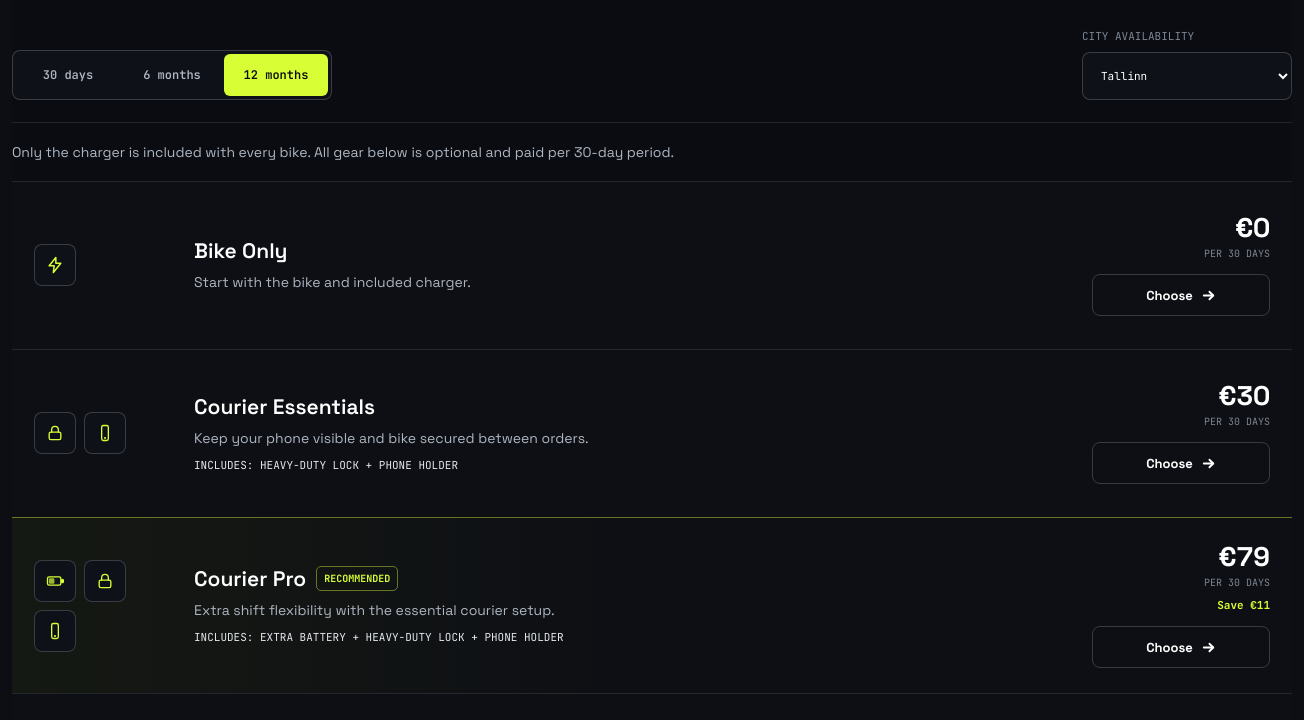
AccessoryPackages › requotes by city and keeps unavailable packages visible
The image size is (1304, 720).
Expected: the heading "Courier Pro" is shown, [194, 566, 306, 592]
Select "Riga" in the dropdown labelled "City availability". click: (1187, 76)
box: [1082, 52, 1292, 100]
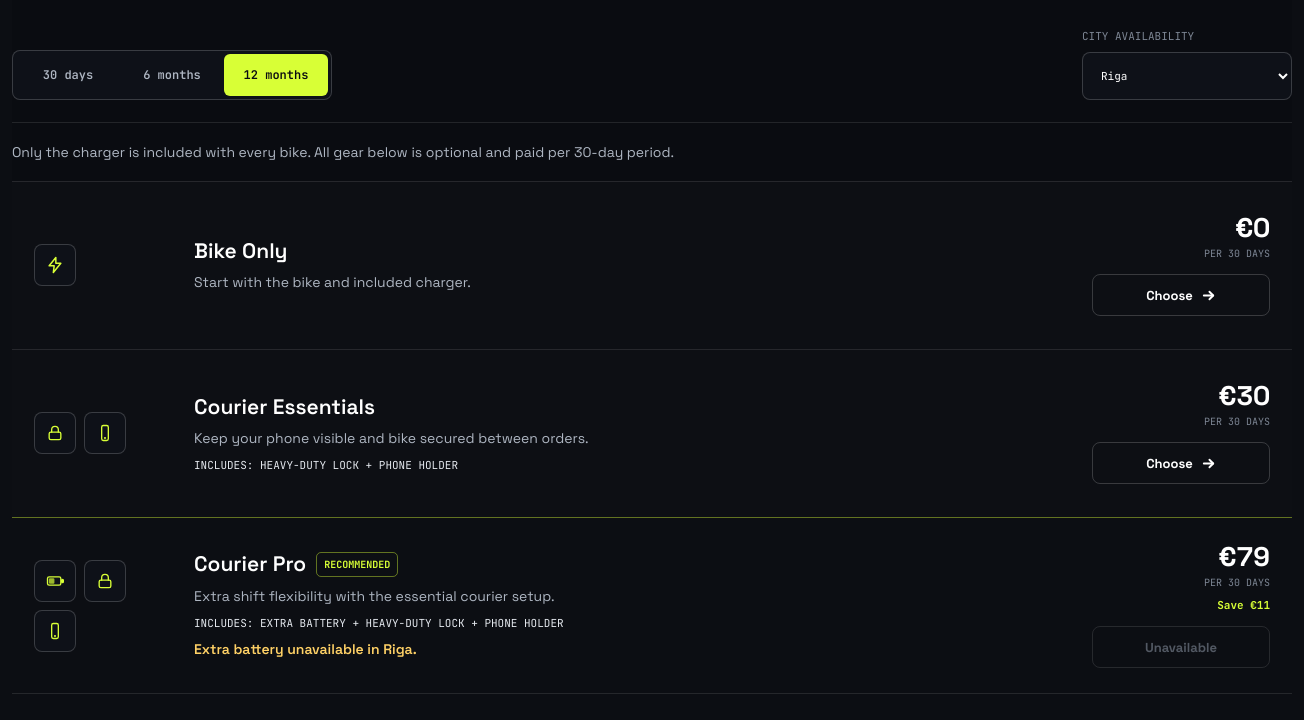
Expected: the text "Extra battery unavailable in Riga." is shown 2 times
